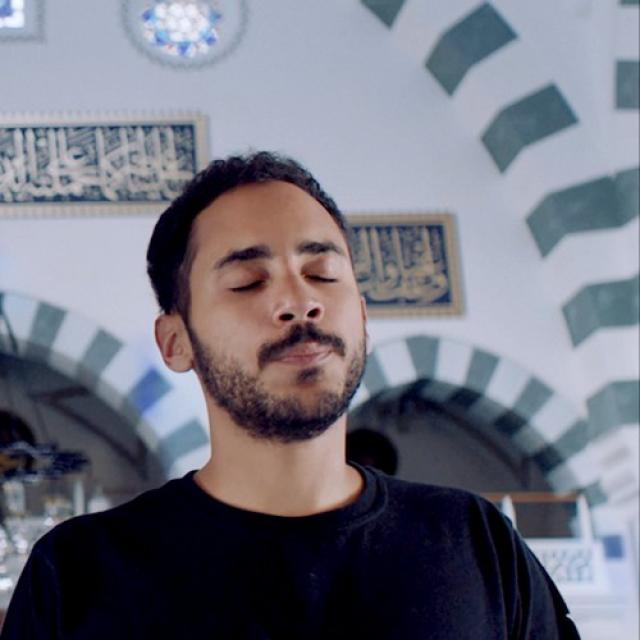human: (7, 146, 587, 640)
